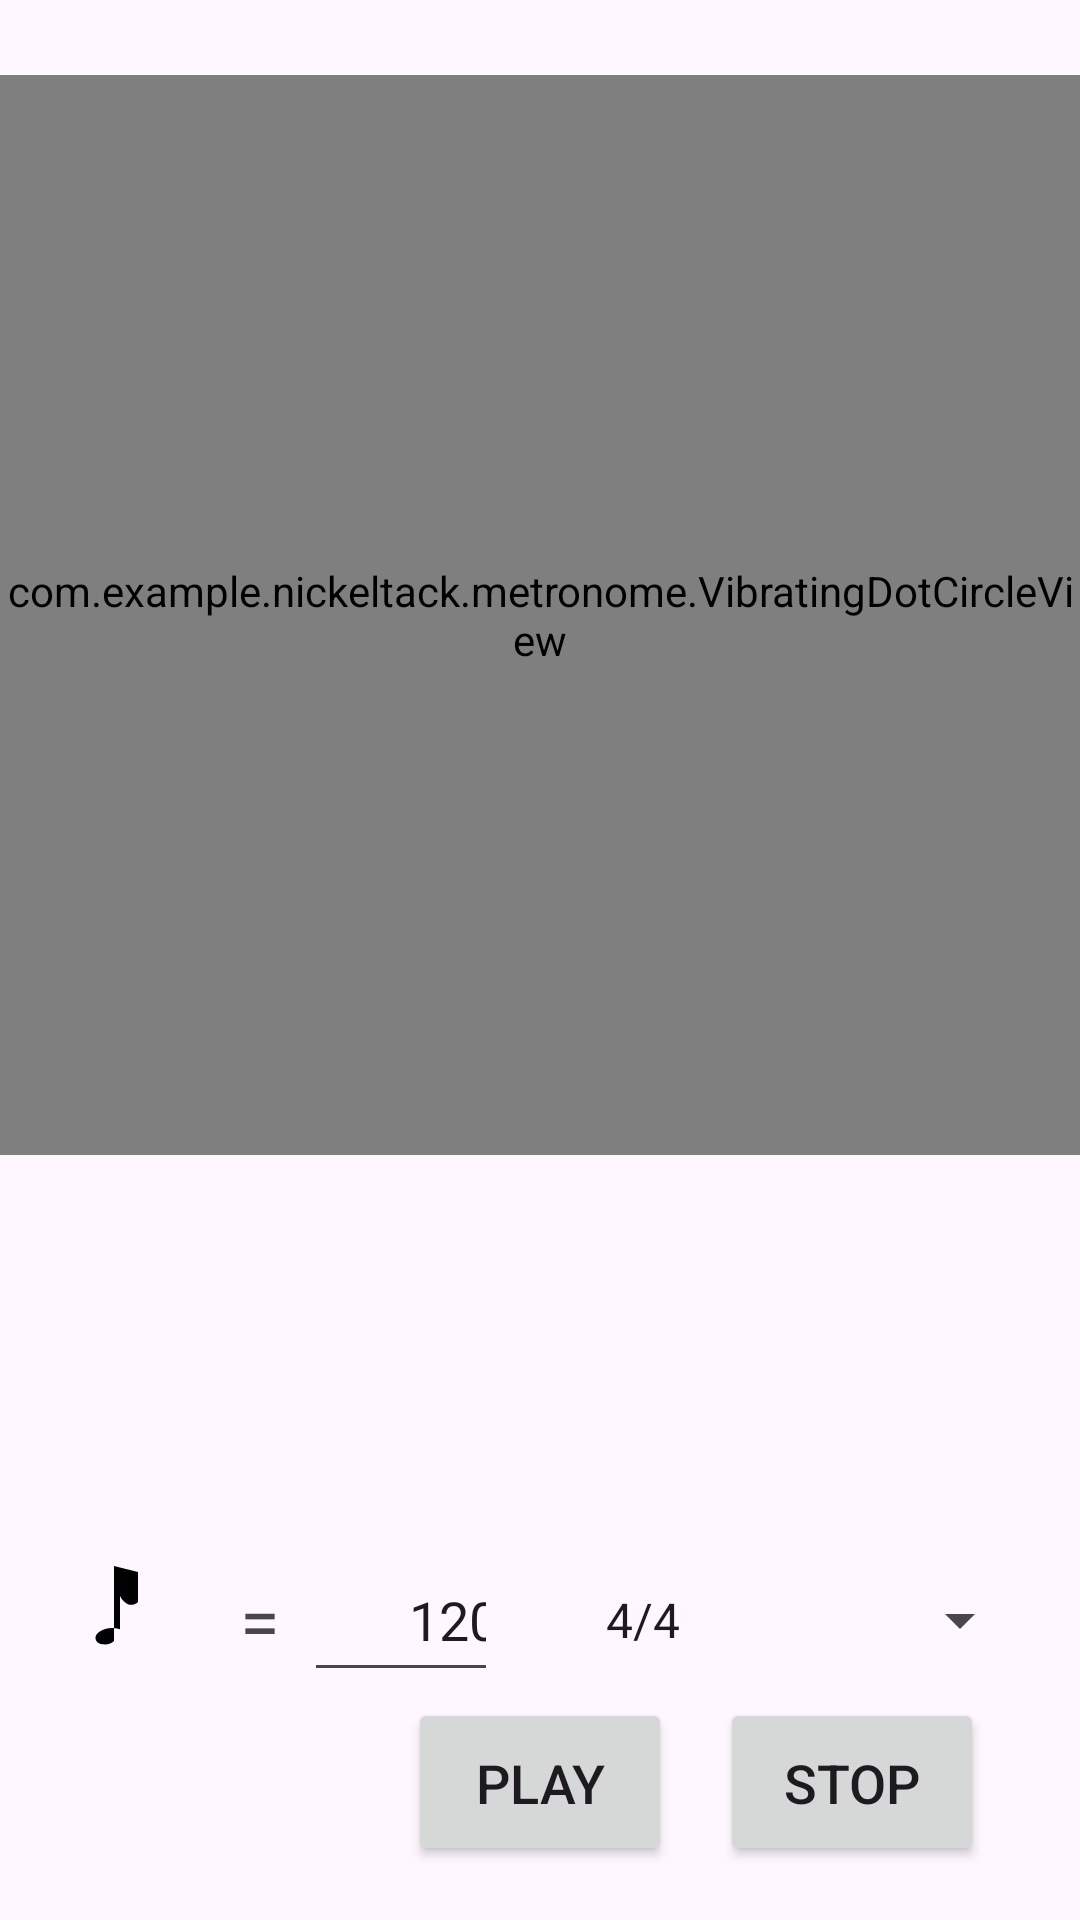

Screen size 1080px x 1920px. Icon name, then its center in pixels as point (x, y):
Music Note: point (116, 1605)
